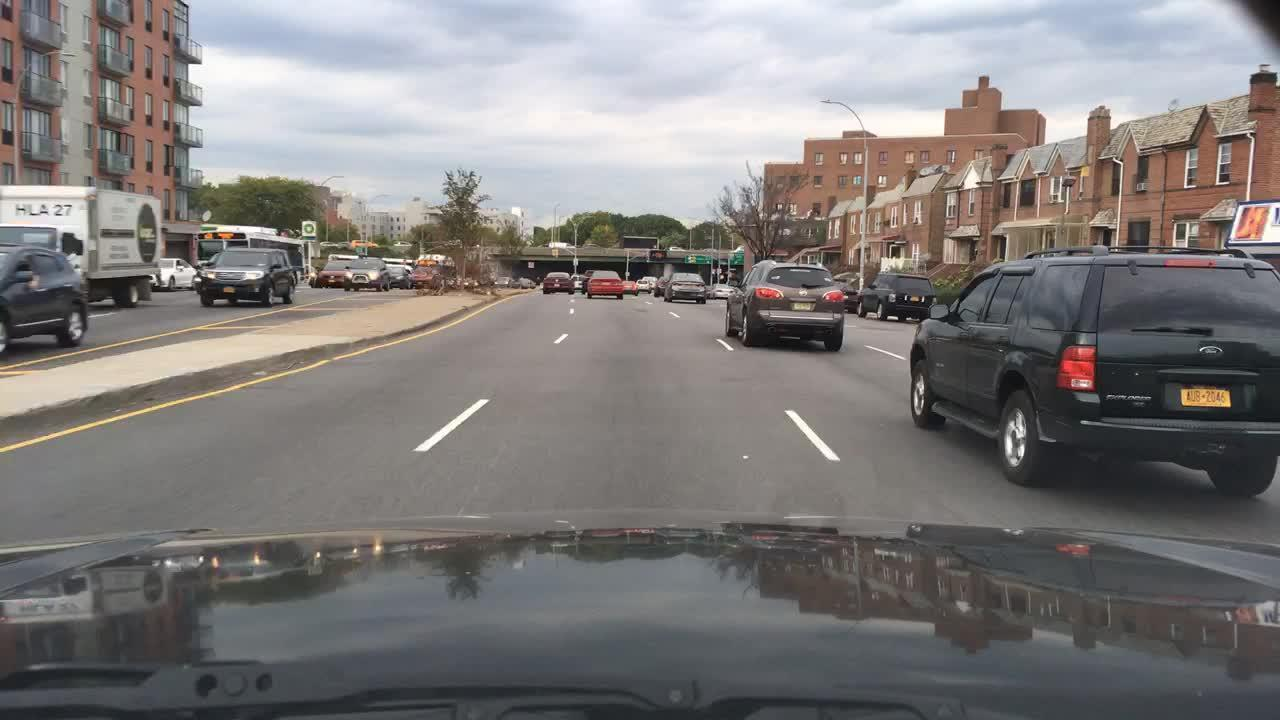ford: (1197, 342, 1224, 361)
